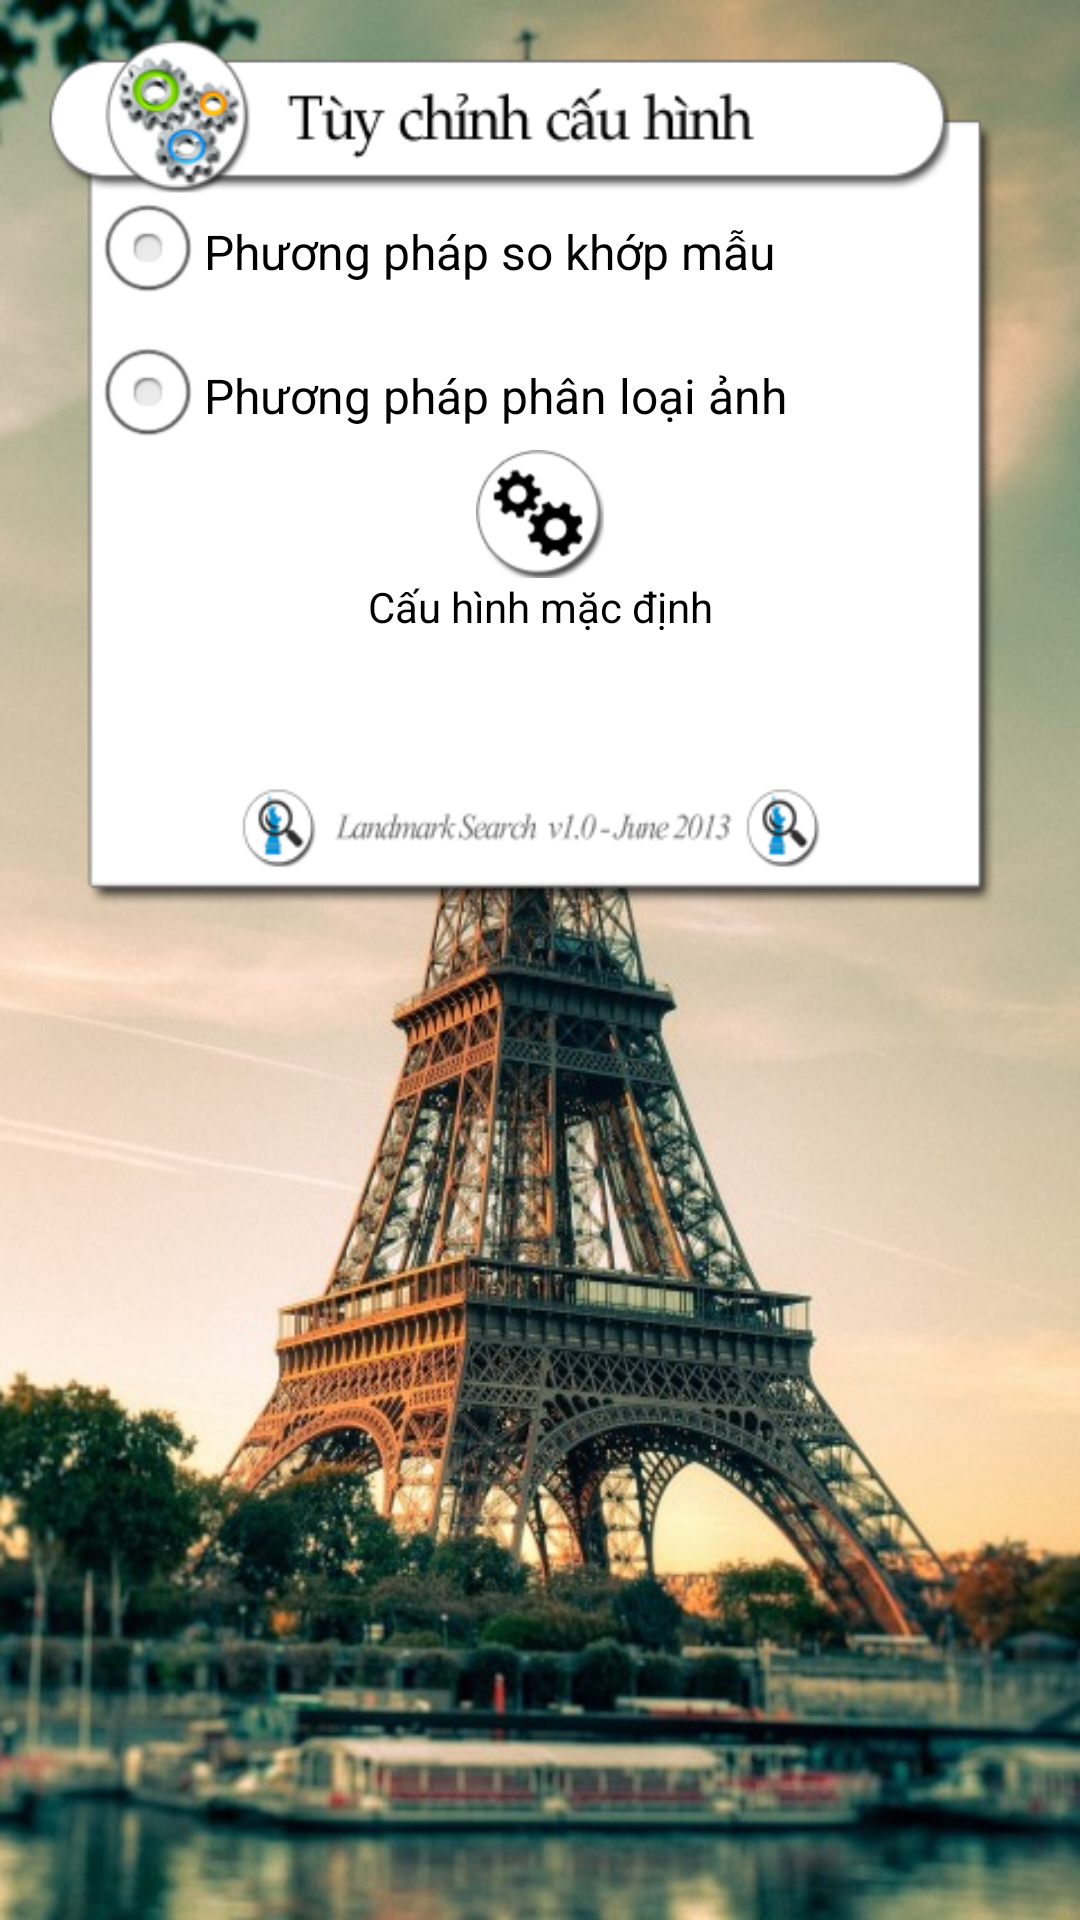

Icon click points for this 1080 x 1920 phone screenshot, format (x,y):
setting: (540,514)
